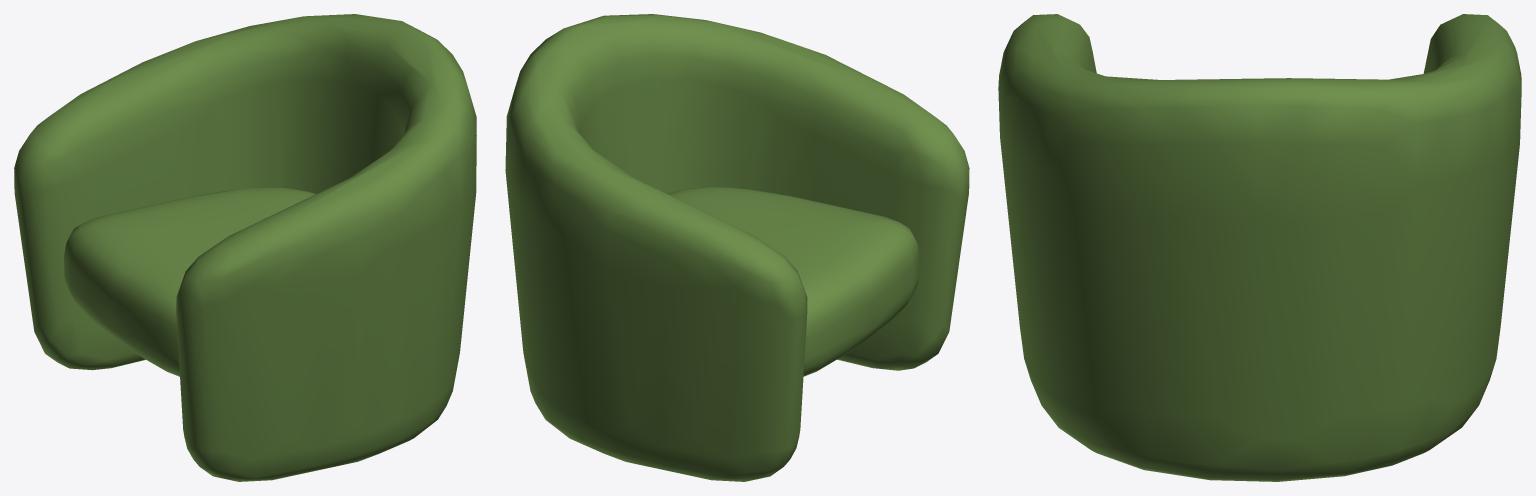
File: armchair_05_green.fbx
3 views of the same model, side by side, from view 1: azimuth 30°, elevation 25°; view 2: azimuth 150°, elevation 25°; view 3: azimuth 270°, elevation 25° (orthographic). The views are drawn at different scales.
Visible parts, largest first — view 1: armchair_05_green; view 2: armchair_05_green; view 3: armchair_05_green.
Boxes of the visible parts, x1,y1,x2,y2 form: armchair_05_green: (14, 14, 476, 481); armchair_05_green: (505, 14, 969, 481); armchair_05_green: (998, 14, 1521, 481).
Bounding box in the file's own units: 113 × 103 × 120.
Materials: 1 (1 with a texture image).
